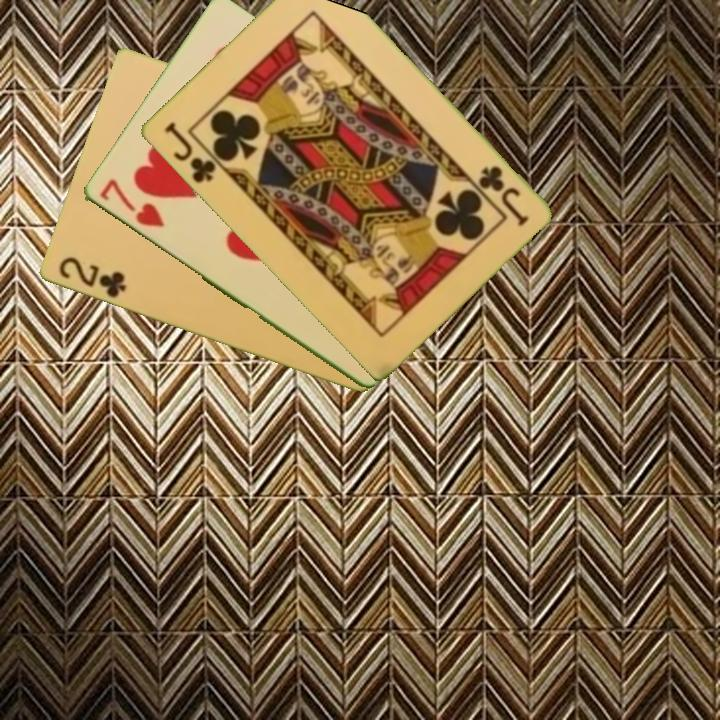2c: (54, 253, 129, 301)
7h: (95, 175, 167, 231)
Jc: (160, 118, 219, 187), (474, 162, 531, 229)
